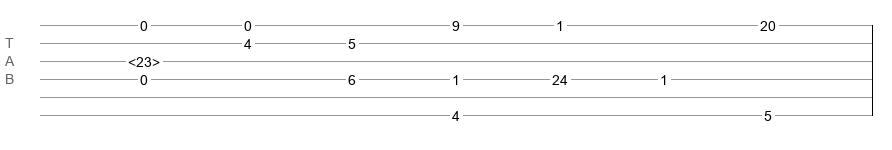0: (140, 72, 148, 82), (140, 18, 148, 28), (244, 18, 252, 28)
1: (452, 72, 460, 82), (556, 18, 564, 28), (660, 72, 668, 82)
20: (760, 18, 776, 28)
24: (552, 72, 568, 82)
4: (244, 36, 252, 46), (452, 108, 460, 118)
5: (348, 36, 356, 46), (764, 108, 772, 118)
6: (348, 72, 356, 82)
9: (452, 18, 460, 28)
harmonic: (128, 54, 160, 64)
